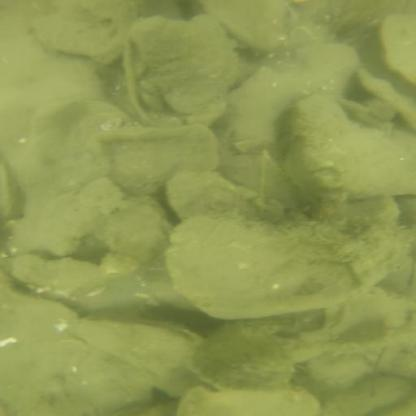Oyster-Closed: (168, 213, 414, 318), (282, 95, 405, 202), (64, 316, 216, 399), (132, 13, 237, 113), (90, 122, 224, 198), (189, 316, 301, 392), (32, 1, 137, 63), (200, 3, 293, 51)
